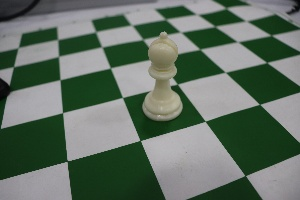white_bishop: (137, 27, 188, 123)
